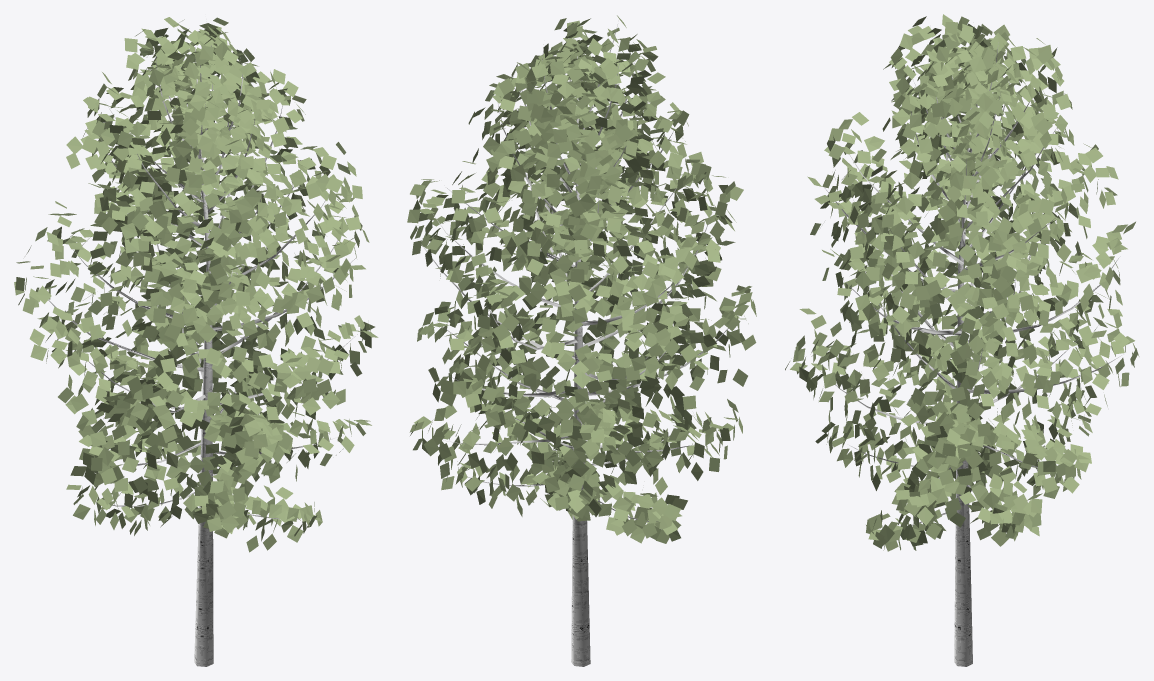
The model's file is tree4.glb.
3 renders of one model, left to right at view 1: azimuth 30°, elevation 25°; view 2: azimuth 150°, elevation 25°; view 3: azimuth 270°, elevation 25°, orthographic.
Parts seen in each view (by area): view 1: birch; view 2: birch; view 3: birch.
Boxes of the visible parts, x1,y1,x2,y2 form: birch: [14, 17, 378, 666]; birch: [407, 15, 756, 666]; birch: [785, 14, 1139, 666].
Bounding box in the file's own units: 0.525 × 1 × 0.5.
3 materials, 1 textured.
